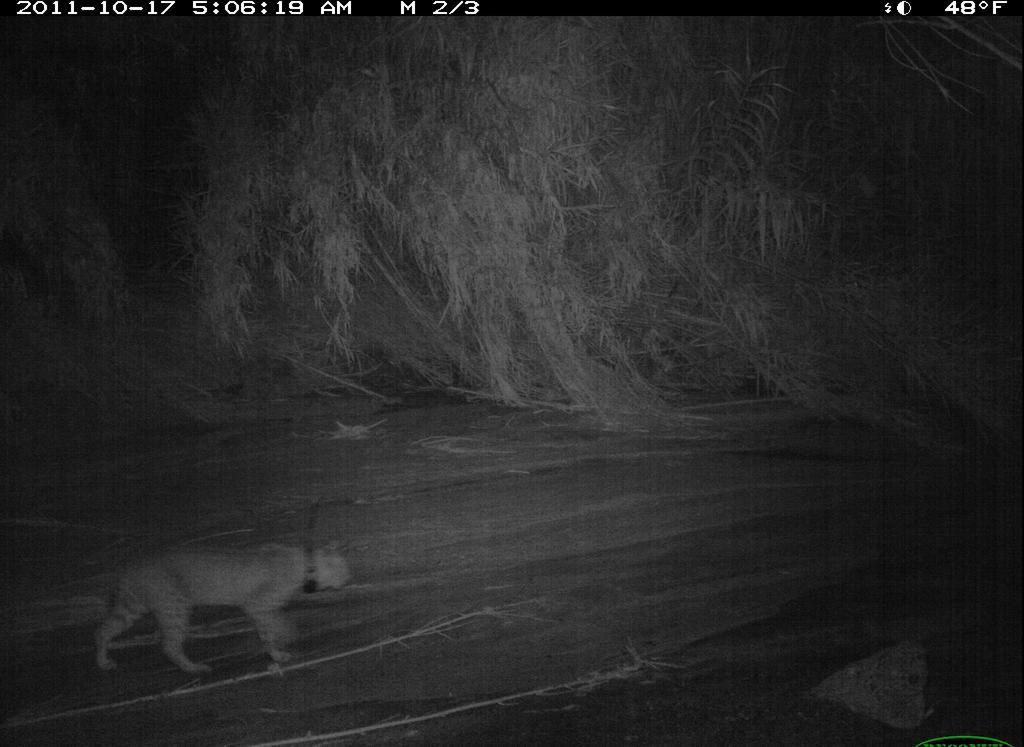bobcat: (88, 533, 367, 685)
